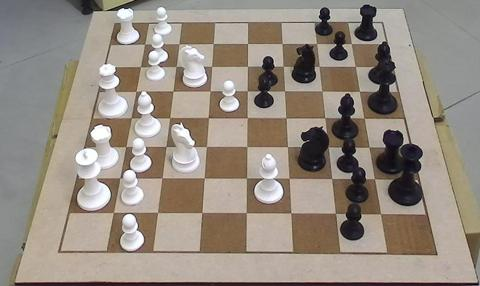xcorner: (243, 39, 253, 49), (208, 39, 218, 49), (174, 39, 184, 49), (315, 62, 325, 72), (279, 62, 289, 72), (280, 86, 290, 96), (205, 86, 215, 96), (168, 86, 178, 96), (131, 86, 141, 96), (321, 113, 331, 123), (242, 113, 252, 123), (203, 113, 213, 123), (126, 112, 136, 122), (365, 143, 375, 153), (283, 142, 293, 152), (242, 142, 252, 152), (161, 141, 171, 151), (199, 173, 209, 183), (157, 173, 167, 183), (197, 208, 207, 218), (348, 39, 357, 49), (313, 39, 322, 49), (278, 39, 287, 49), (140, 39, 149, 49), (352, 62, 361, 72), (243, 62, 253, 71), (207, 62, 217, 71), (171, 62, 181, 71), (135, 62, 145, 71), (356, 87, 366, 96), (318, 87, 328, 96), (243, 86, 252, 96), (360, 114, 370, 123), (282, 113, 291, 123), (324, 143, 334, 152), (121, 141, 130, 151), (371, 175, 381, 184), (328, 174, 337, 184), (285, 174, 294, 184), (242, 174, 252, 183), (115, 173, 125, 182), (377, 210, 387, 219), (332, 209, 341, 219), (287, 209, 296, 219), (242, 208, 251, 218), (153, 207, 162, 217), (109, 207, 118, 217), (165, 113, 174, 122), (202, 142, 211, 151)
